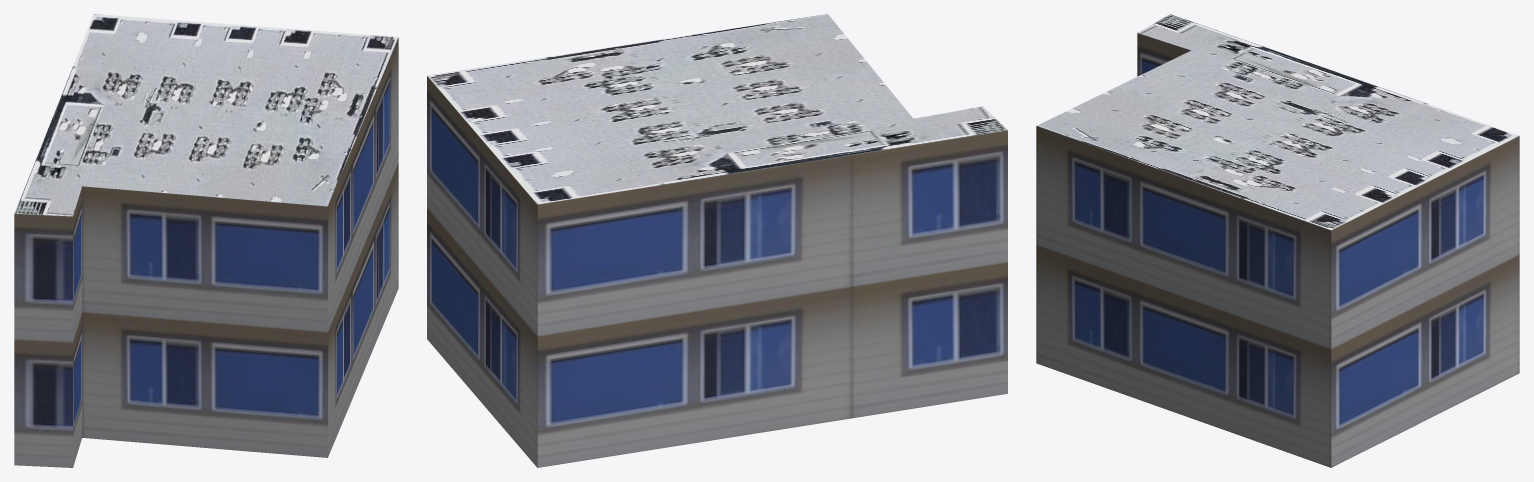
Rendered from ResTex__425.fbx.
3 renders of one model, left to right at view 1: azimuth 30°, elevation 25°; view 2: azimuth 150°, elevation 25°; view 3: azimuth 270°, elevation 25°, orthographic. The views are drawn at different scales.
Visible parts, largest first — view 1: CityEngineMaterial_23_m, CityEngineMaterial_8_m; view 2: CityEngineMaterial_23_m, CityEngineMaterial_8_m; view 3: CityEngineMaterial_23_m, CityEngineMaterial_8_m.
Boxes of the visible parts, x1,y1,x2,y2 form: CityEngineMaterial_23_m: [14, 37, 398, 467]; CityEngineMaterial_8_m: [14, 14, 398, 216]; CityEngineMaterial_23_m: [427, 76, 1007, 467]; CityEngineMaterial_8_m: [427, 14, 1007, 204]; CityEngineMaterial_23_m: [1036, 33, 1519, 467]; CityEngineMaterial_8_m: [1036, 14, 1519, 230].
Bounding box in the file's own units: 11.72 × 6 × 11.06.
2 materials, 2 textured.
